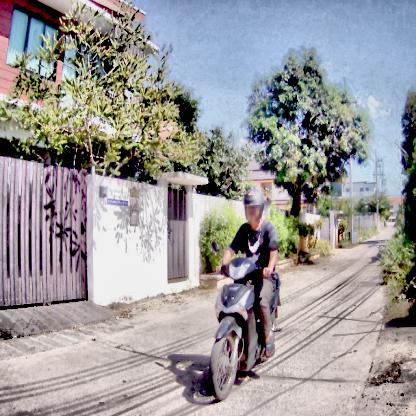wear: (244, 189, 264, 227)
